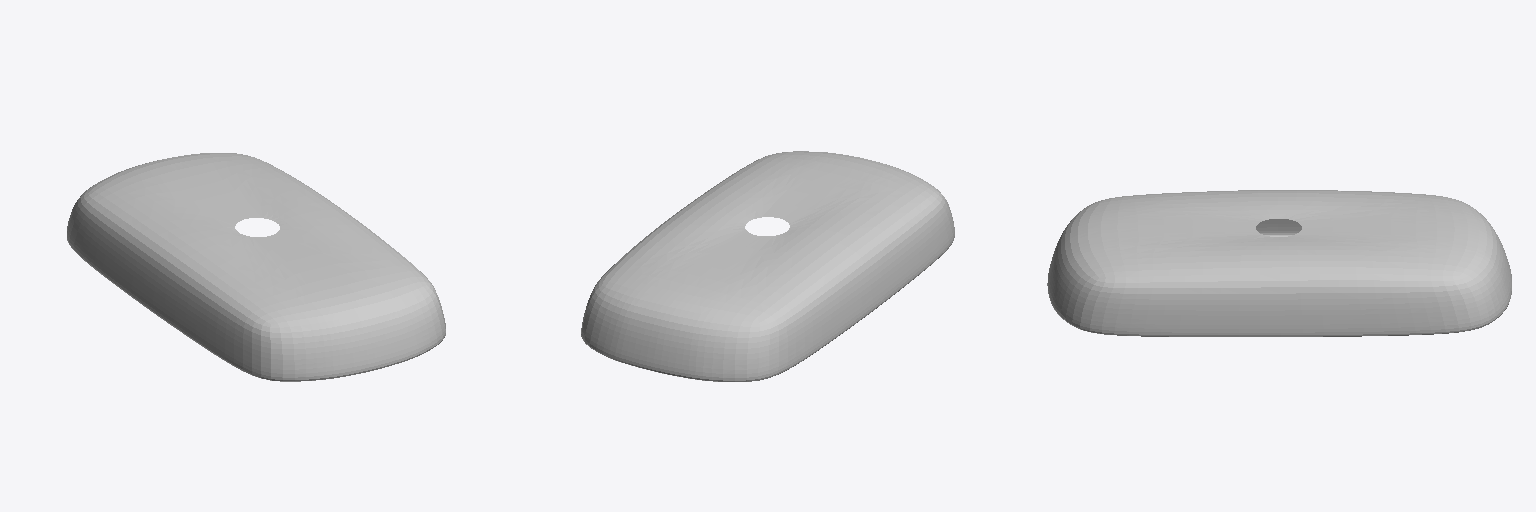
File: pot_tankcover.obj
3 renders of one model, left to right at view 1: azimuth 30°, elevation 25°; view 2: azimuth 150°, elevation 25°; view 3: azimuth 270°, elevation 25°, orthographic.
Visible parts, largest first — view 1: Tank_cover; view 2: Tank_cover; view 3: Tank_cover.
Boxes of the visible parts, <box> form: Tank_cover: <box>67,153,445,381</box>; Tank_cover: <box>581,151,954,381</box>; Tank_cover: <box>1047,190,1511,336</box>.
Bounding box in the file's own units: 40.04 × 11.31 × 76.94.